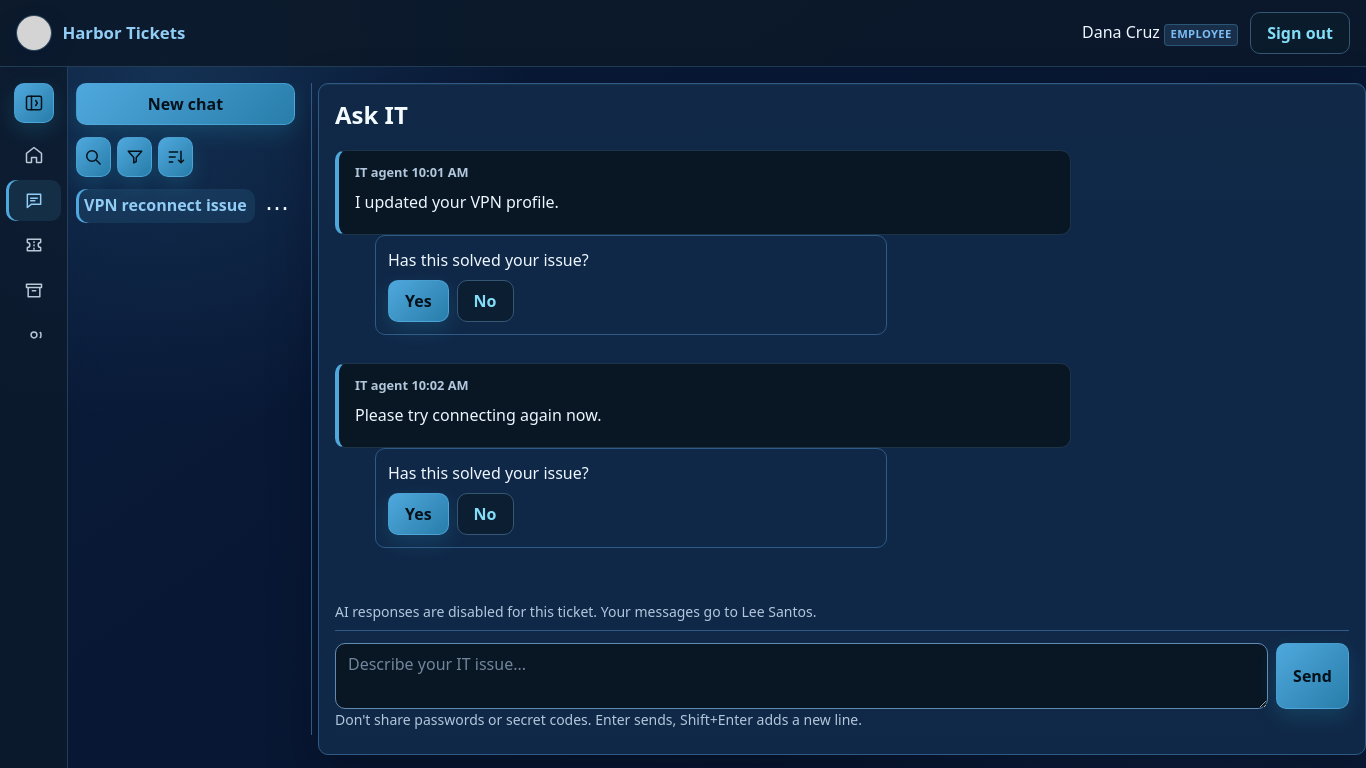
Test case: employee chat (S3-02, S3-03) › asks employees if an agent reply resolved their linked ticket
Check: the text "Has this solved your issue?" is shown 2 times, box [388, 249, 589, 271]; [388, 462, 589, 484]
Click the button "No" below "I updated your VPN profile.": [485, 301] box [457, 280, 514, 322]
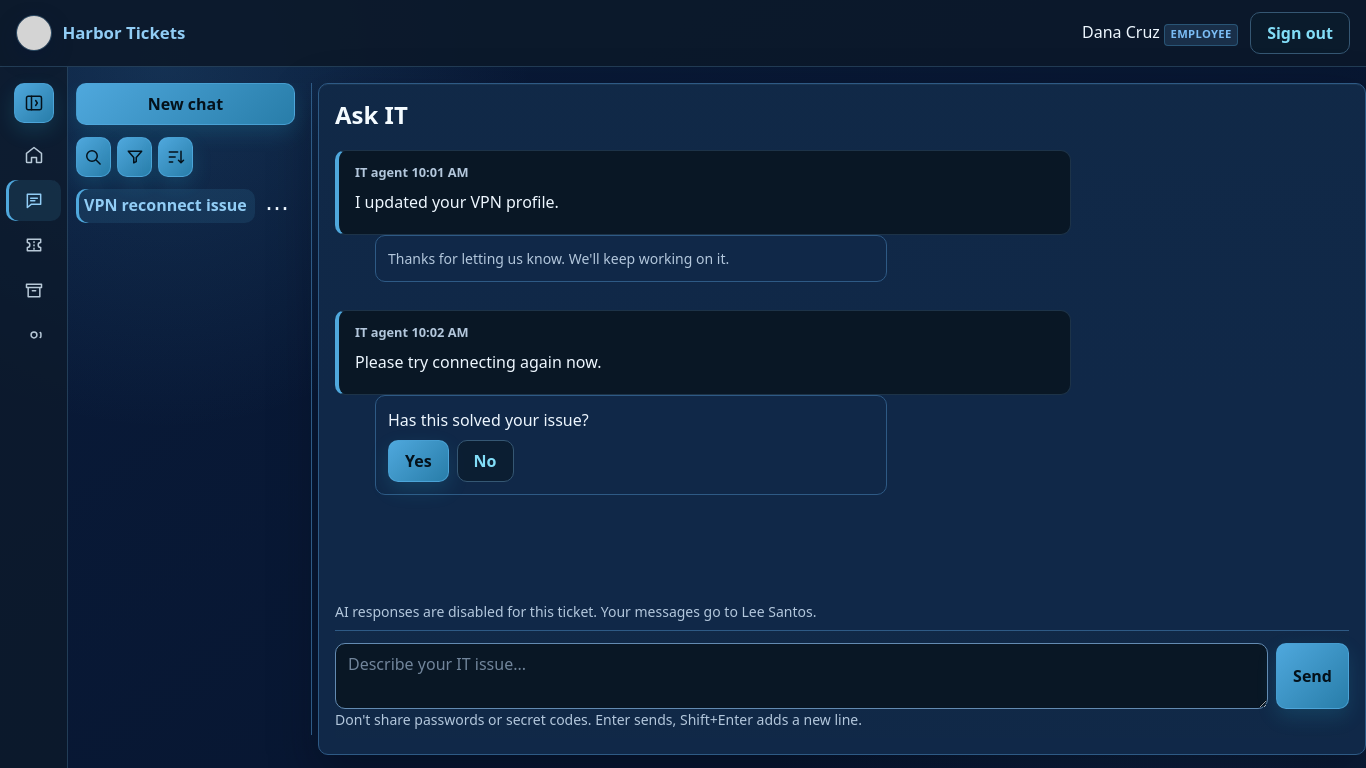
Check: the text "Thanks for letting us know. We'll keep working on it." is shown, box [388, 249, 729, 268]
Click the button "Yes": [418, 461] box [388, 440, 449, 482]
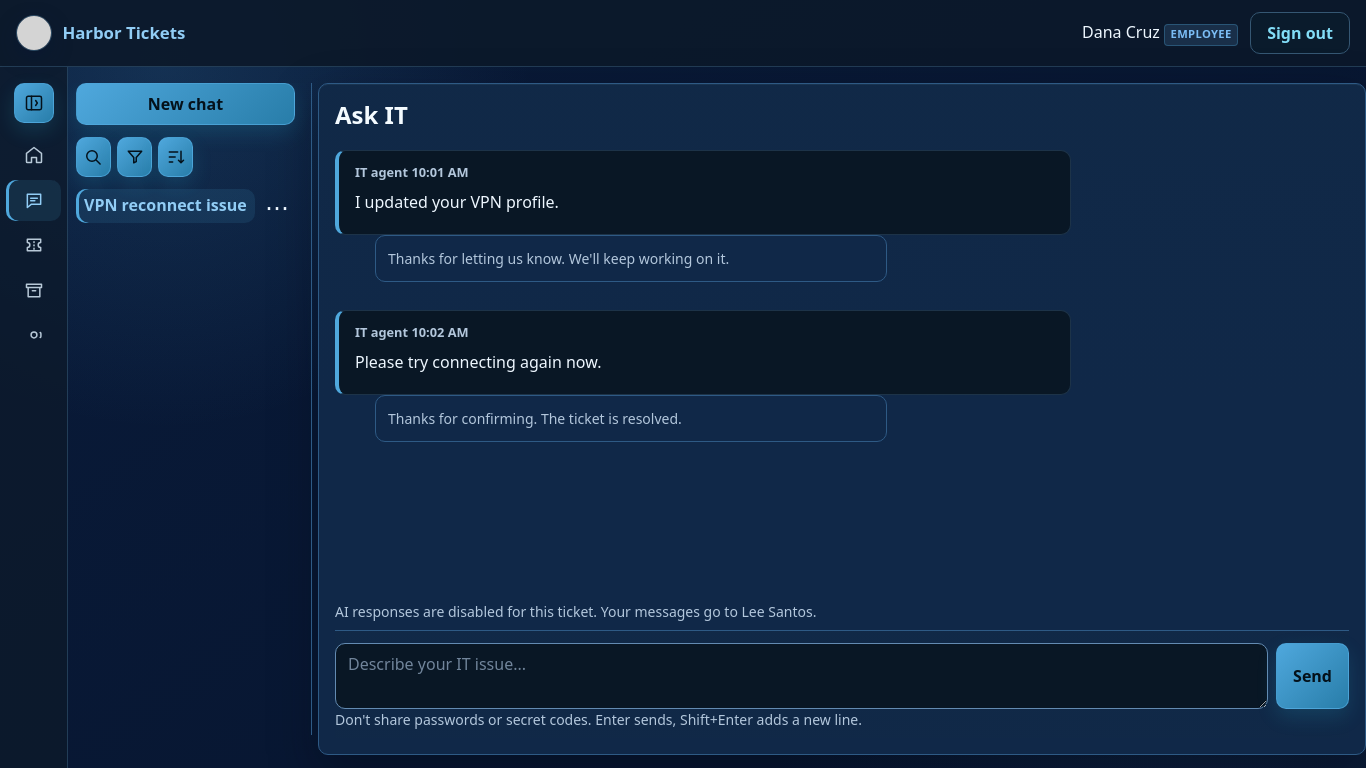
Check: the text "Thanks for confirming. The ticket is resolved." is shown, box [388, 409, 682, 428]
